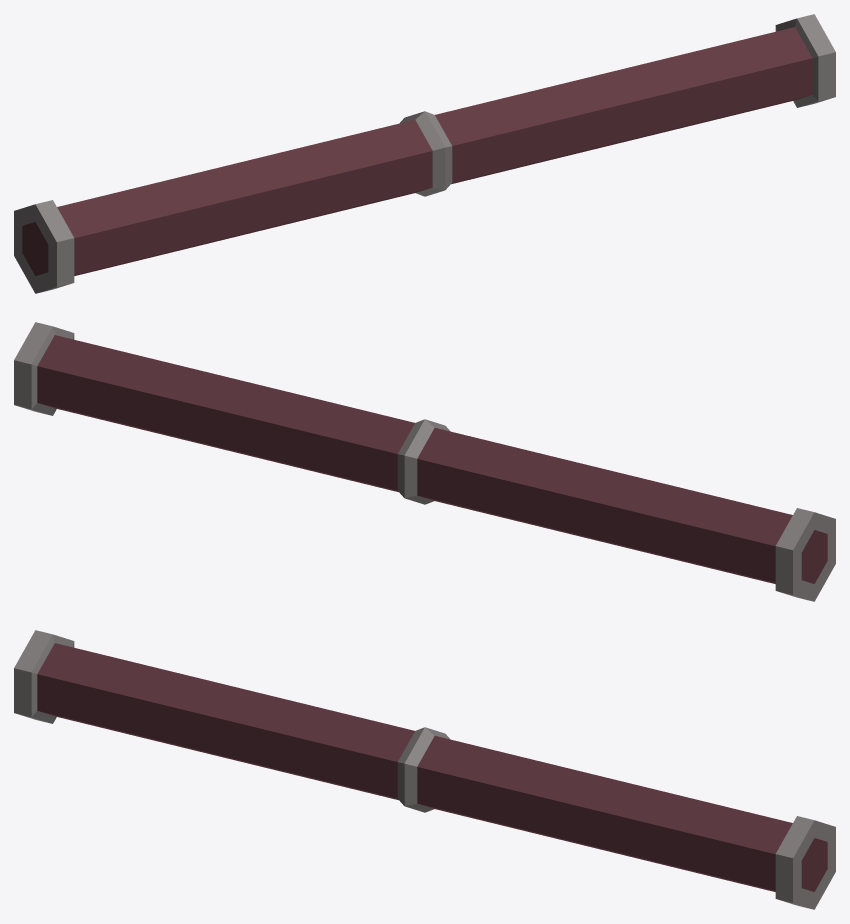
File: scifi-pipe-corridor.fbx
The picture shows the model from 3 angles, top to bottom: view 1: azimuth 30°, elevation 25°; view 2: azimuth 150°, elevation 25°; view 3: azimuth 330°, elevation 25°; orthographic projection.
Parts seen in each view (by area): view 1: scifi-pipe-corridor; view 2: scifi-pipe-corridor; view 3: scifi-pipe-corridor.
Part boxes in pixels (box(x1,y1,x2,y2)): scifi-pipe-corridor: box(14, 14, 835, 293); scifi-pipe-corridor: box(14, 322, 835, 601); scifi-pipe-corridor: box(14, 630, 835, 909).
Size of the model in its own units: 4 by 0.44 by 0.3811.
